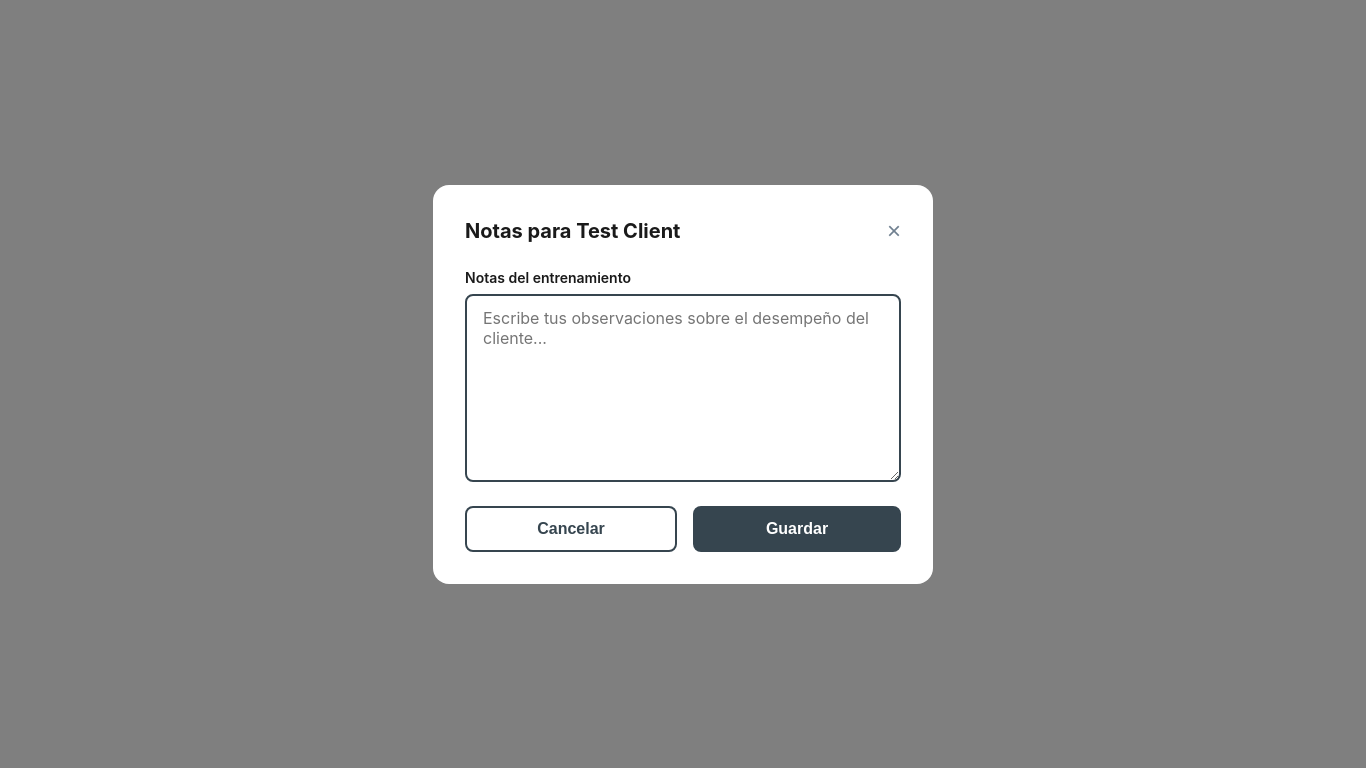
Test case: NotesModal › should display error message when save fails
Type "Test notes" into the text box.
click(683, 388); type("Test notes")  # box [465,294,901,482]
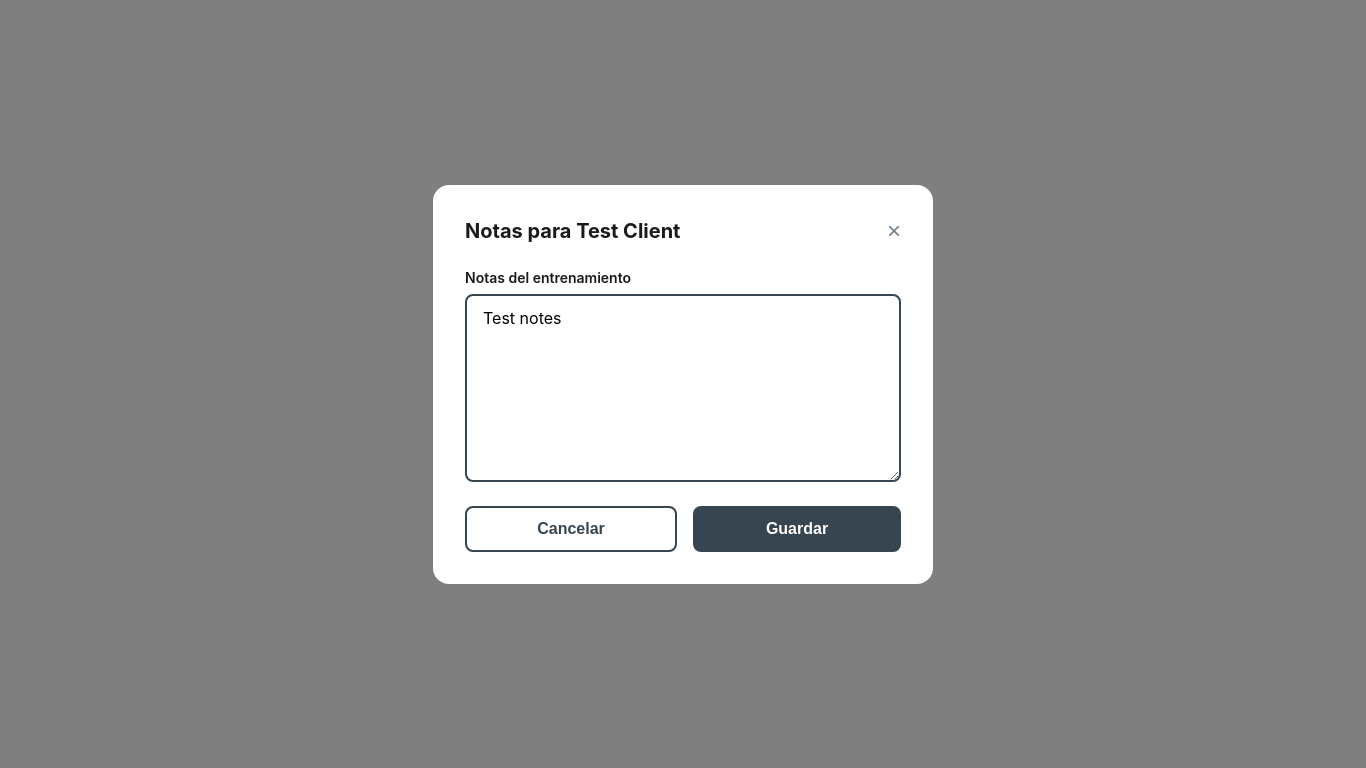
Click the button "Guardar".
click(797, 528)  # box [693,506,901,552]
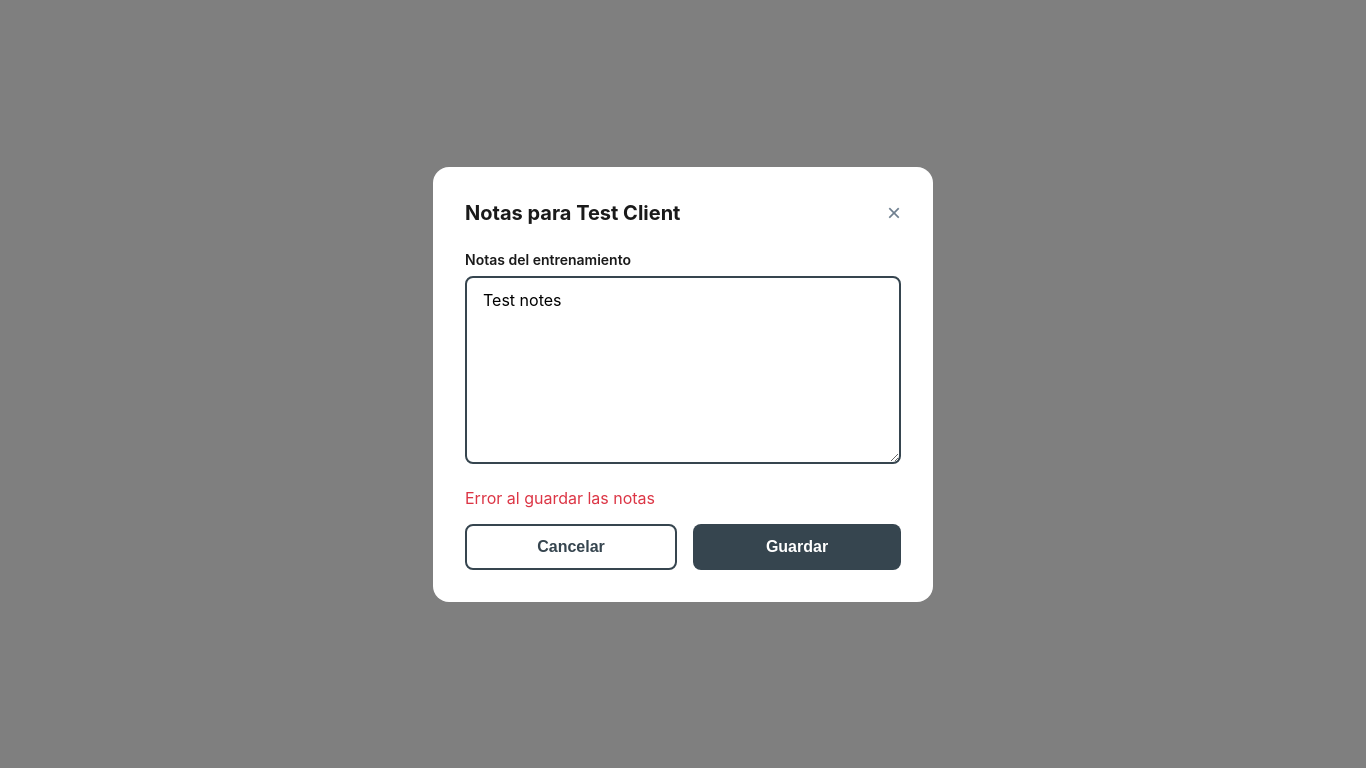
expect the text "Error al guardar las notas" is shown: met, box [465,488,655,508]
